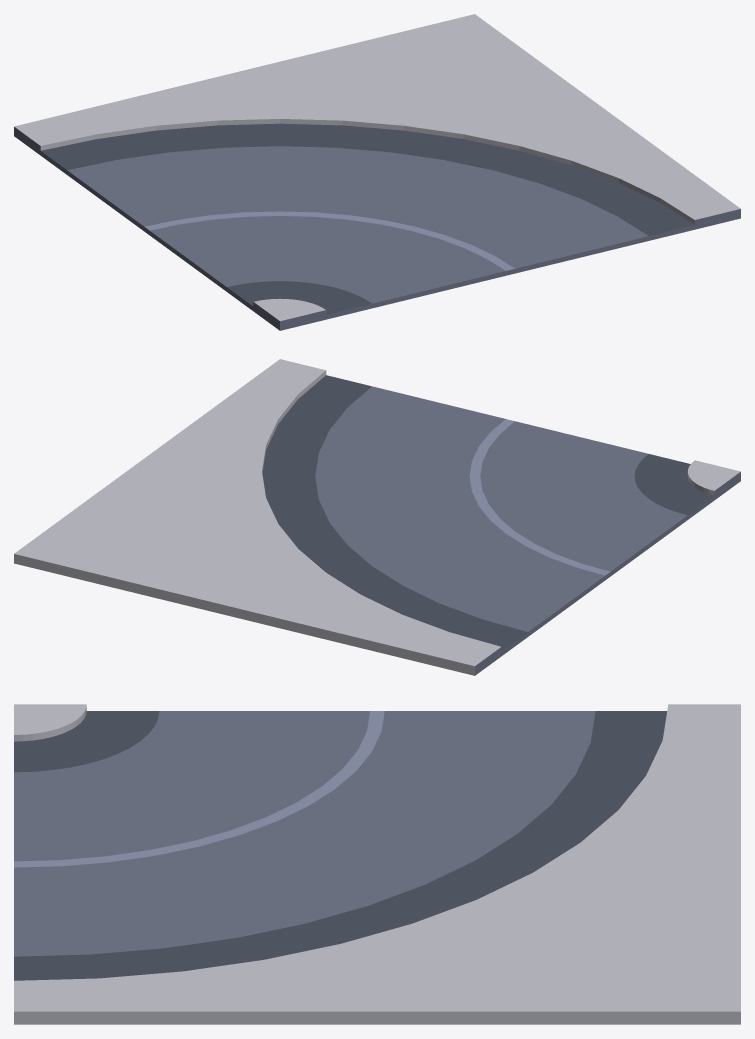
Rendered from road_bendSidewalk.glb.
3 renders of one model, top to bottom at view 1: azimuth 30°, elevation 25°; view 2: azimuth 150°, elevation 25°; view 3: azimuth 270°, elevation 25°, orthographic. The views are drawn at different scales.
Visible parts, largest first — view 1: road_bendSidewalk_b91d08, road_bendSidewalk_98fc27, road_bendSidewalk_7fc544, road_bendSidewalk_c3f4ae; view 2: road_bendSidewalk_b91d08, road_bendSidewalk_98fc27, road_bendSidewalk_7fc544, road_bendSidewalk_c3f4ae; view 3: road_bendSidewalk_b91d08, road_bendSidewalk_98fc27, road_bendSidewalk_7fc544, road_bendSidewalk_c3f4ae.
Boxes of the visible parts, x1,y1,x2,y2 form: road_bendSidewalk_b91d08: (14,127,740,330); road_bendSidewalk_98fc27: (14,14,740,321); road_bendSidewalk_7fc544: (41,123,694,314); road_bendSidewalk_c3f4ae: (144,211,514,270); road_bendSidewalk_b91d08: (315,386,740,675); road_bendSidewalk_98fc27: (14,359,740,675); road_bendSidewalk_7fc544: (262,375,713,650); road_bendSidewalk_c3f4ae: (469,419,610,575); road_bendSidewalk_b91d08: (14,711,595,956); road_bendSidewalk_98fc27: (14,704,740,1024); road_bendSidewalk_7fc544: (14,711,667,980); road_bendSidewalk_c3f4ae: (14,711,384,867).
Size of the model in its own units: 1 by 0.02 by 1.
